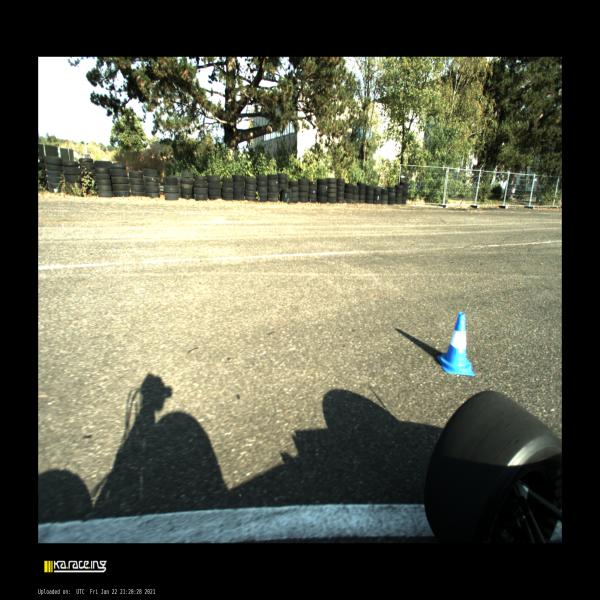blue_cone: (437, 312, 475, 376)
